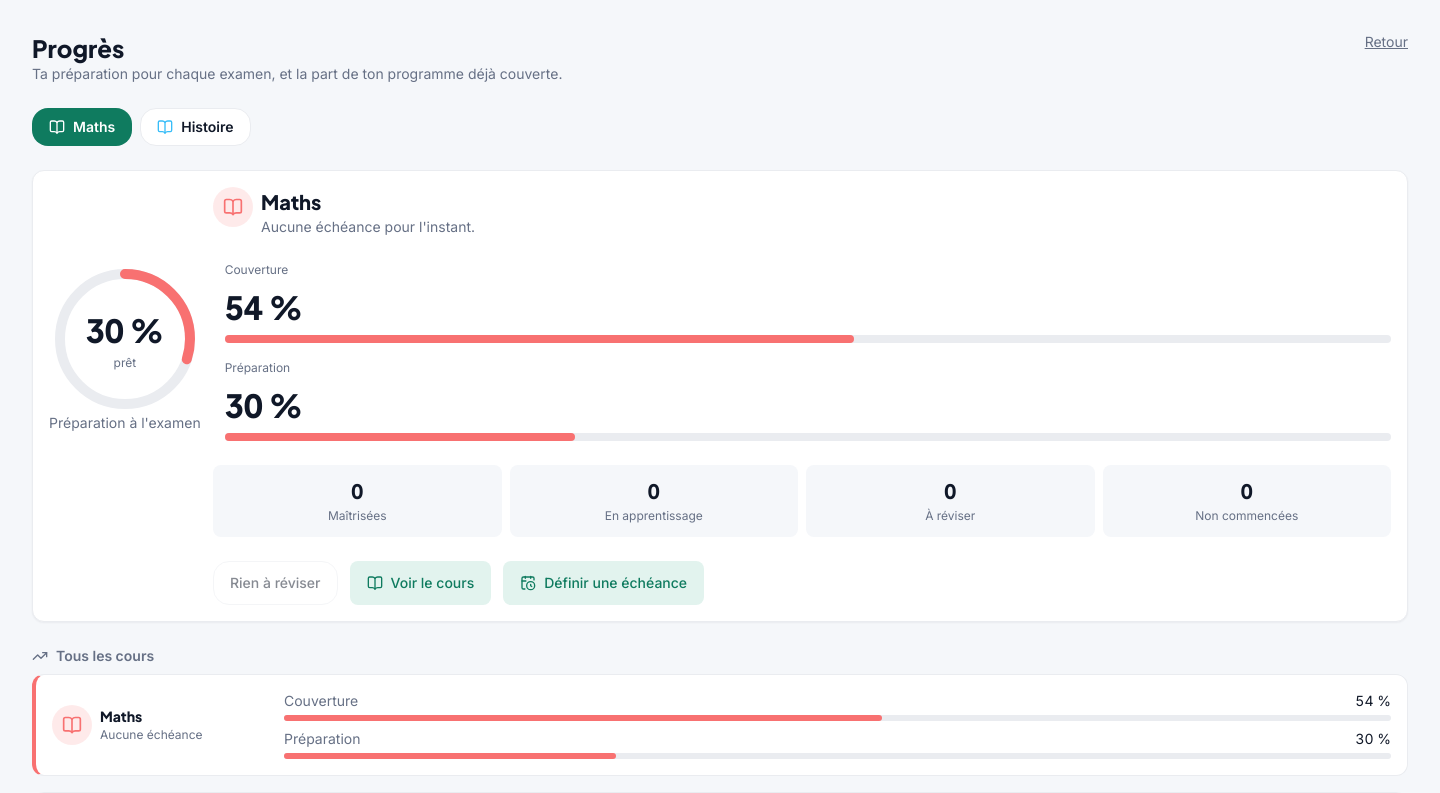
Test: ProgressScreen › clicking a different pill switches the detail card's own course, a local selection not a navigation
Expected: the 1st heading "Maths" is shown, [261, 189, 321, 214]
Click the button "Histoire".
click(195, 127)  # box [140, 108, 250, 146]
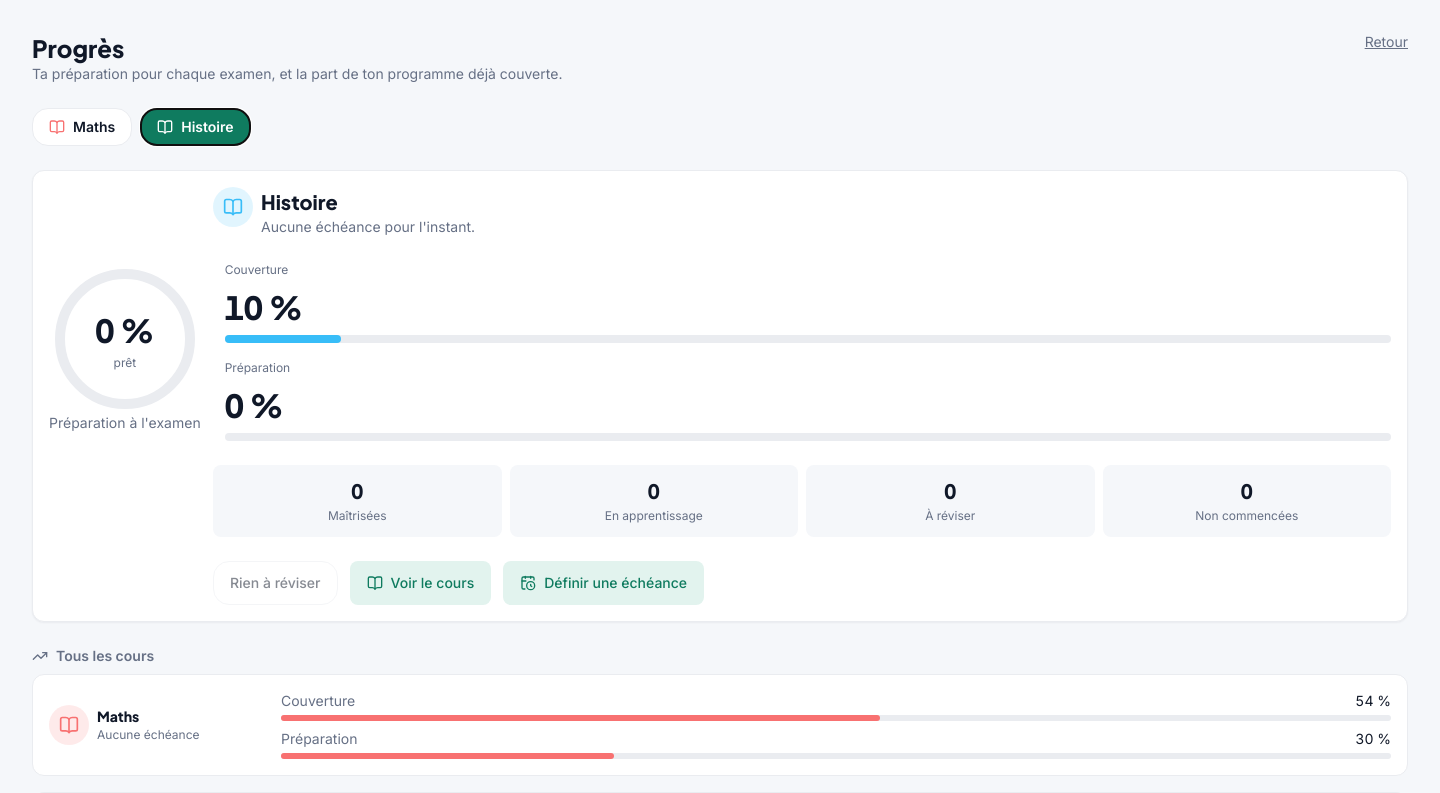
Expected: the heading "Histoire" is shown, [261, 189, 338, 214]
